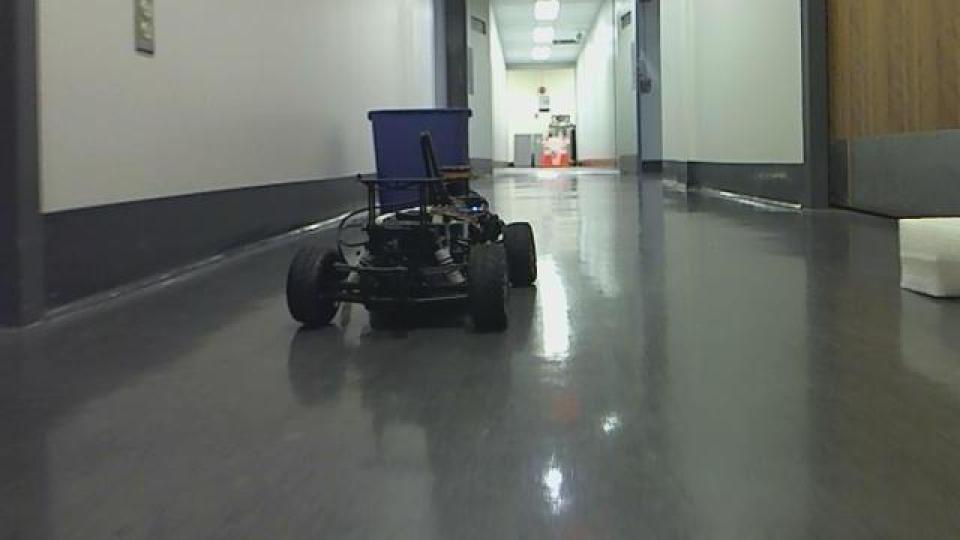car: (282, 116, 540, 336)
